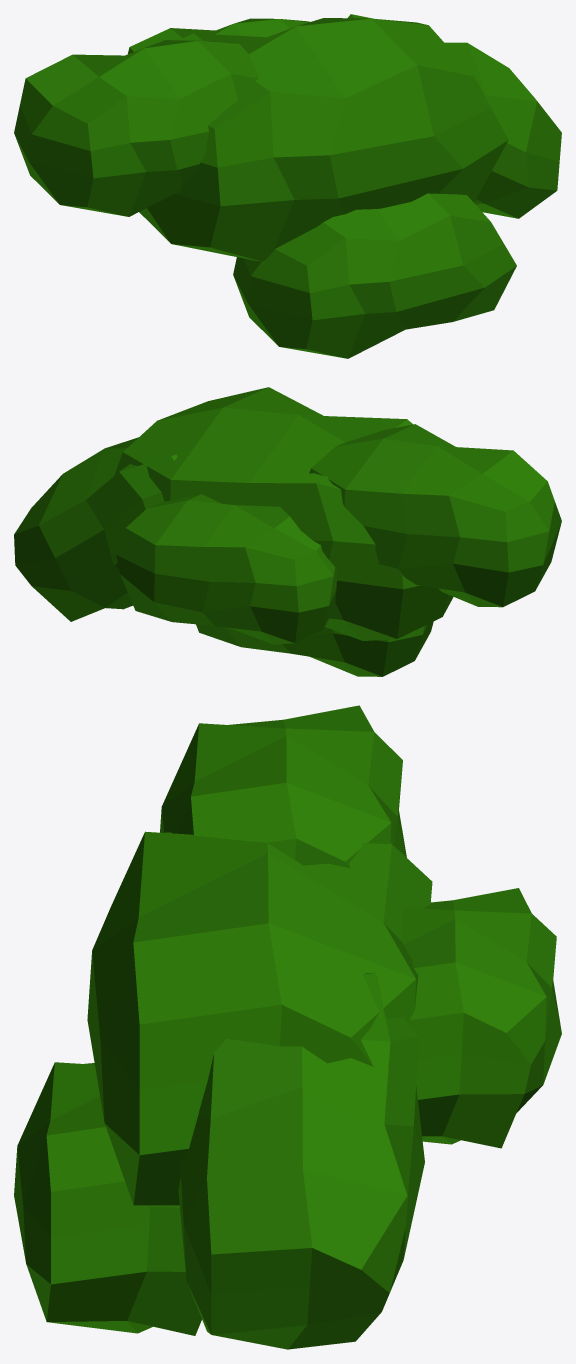
The model's file is bladeren 2.fbx.
3 renders of one model, top to bottom at view 1: azimuth 30°, elevation 25°; view 2: azimuth 150°, elevation 25°; view 3: azimuth 270°, elevation 25°, orthographic. The views are drawn at different scales.
Visible parts, largest first — view 1: Cube.055; view 2: Cube.055; view 3: Cube.055.
Boxes of the visible parts, box(x1,y1,x2,y2) form: Cube.055: box(14, 14, 561, 358); Cube.055: box(14, 387, 561, 676); Cube.055: box(14, 705, 561, 1349).
Bounding box in the file's own units: 956 × 523 × 601.
